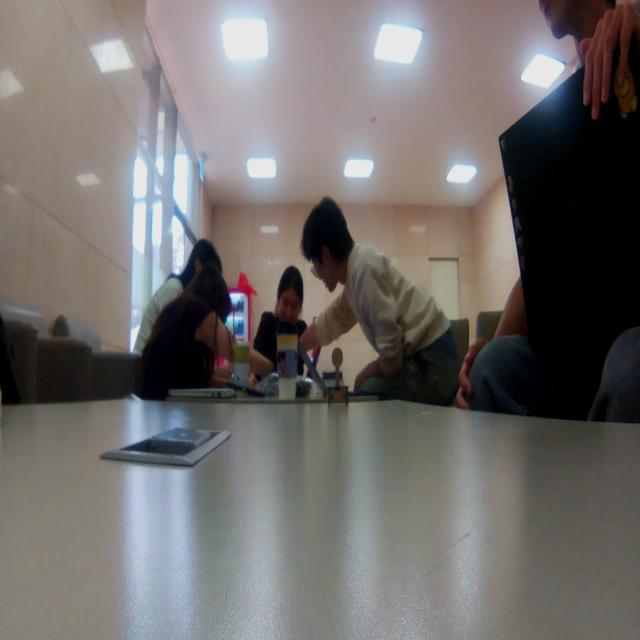target: (327, 347, 349, 408)
